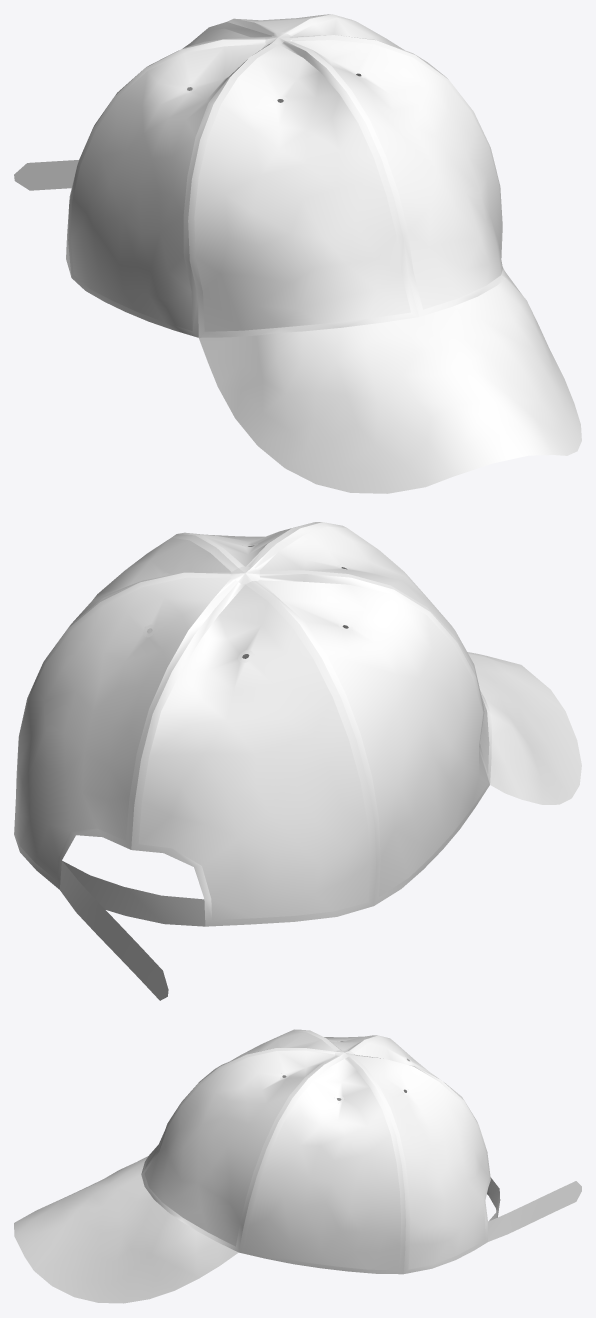
Rendered from base_cap.glb.
3 renders of one model, top to bottom at view 1: azimuth 30°, elevation 25°; view 2: azimuth 150°, elevation 25°; view 3: azimuth 270°, elevation 25°, orthographic. The views are drawn at different scales.
Visible parts, largest first — view 1: FRONT, BODY_F_L, BODY_L, BODY_F_R, F_OL_L, L_OL, F_OL_R, TAIL, RIGHT_BODY, B_OL_L, BODY_B_L; view 2: BODY_B_L, BODY_L, BODY_B_R, FRONT, B_OL_L, BODY_F_L, L_OL, B_OL_R, TAIL, ADJUSTER, RIGHT_BODY, F_OL_L (+3 smaller); view 3: RIGHT_BODY, FRONT, BODY_F_R, BODY_B_R, R_OL, F_OL_R, B_OL_R, TAIL, BODY_F_L, BODY_B_L, F_OL_L, BODY_L.
Part boxes in pixels (bbox=[...]): FRONT: bbox=[199, 271, 581, 493]; BODY_F_L: bbox=[194, 45, 410, 331]; BODY_L: bbox=[70, 44, 265, 330]; BODY_F_R: bbox=[292, 40, 502, 309]; F_OL_L: bbox=[188, 37, 418, 337]; L_OL: bbox=[68, 37, 277, 337]; F_OL_R: bbox=[279, 35, 505, 316]; TAIL: bbox=[14, 160, 78, 190]; RIGHT_BODY: bbox=[292, 17, 444, 75]; B_OL_L: bbox=[66, 22, 277, 276]; BODY_B_L: bbox=[66, 28, 263, 267]; BODY_B_L: bbox=[138, 584, 369, 919]; BODY_L: bbox=[260, 580, 488, 896]; BODY_B_R: bbox=[14, 577, 230, 880]; FRONT: bbox=[242, 652, 581, 804]; B_OL_L: bbox=[131, 573, 375, 926]; BODY_F_L: bbox=[260, 526, 489, 773]; L_OL: bbox=[246, 573, 489, 905]; B_OL_R: bbox=[14, 572, 244, 889]; TAIL: bbox=[60, 861, 168, 1000]; ADJUSTER: bbox=[62, 861, 205, 926]; RIGHT_BODY: bbox=[71, 537, 230, 623]; F_OL_L: bbox=[245, 522, 491, 783]; RIGHT_BODY: bbox=[244, 1059, 400, 1270]; FRONT: bbox=[14, 1156, 238, 1303]; BODY_F_R: bbox=[144, 1050, 334, 1246]; BODY_B_R: bbox=[355, 1056, 489, 1269]; R_OL: bbox=[239, 1053, 405, 1274]; F_OL_R: bbox=[141, 1048, 344, 1252]; B_OL_R: bbox=[345, 1052, 490, 1273]; TAIL: bbox=[488, 1181, 581, 1241]; BODY_F_L: bbox=[145, 1031, 334, 1168]; BODY_B_L: bbox=[354, 1038, 451, 1088]; F_OL_L: bbox=[141, 1029, 344, 1173]; BODY_L: bbox=[282, 1035, 372, 1100].
Size of the model in its own units: 0.1731 by 0.1449 by 0.3542.
Materials: 1 (1 with a texture image).
